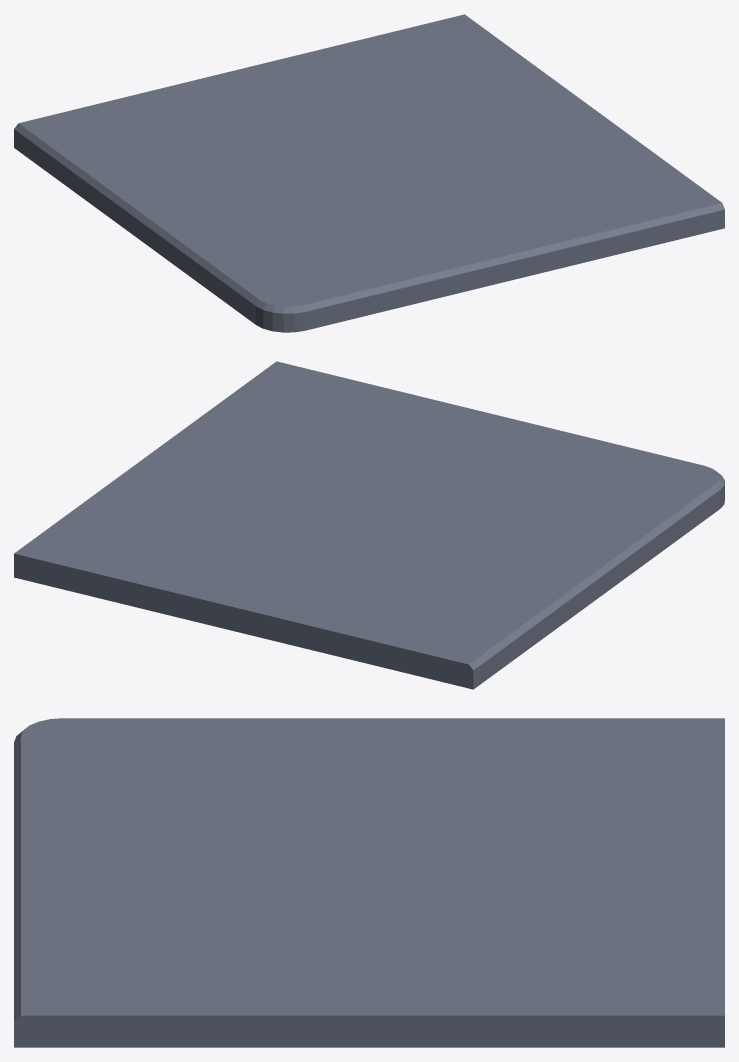
File: env_block_sidewalk_corner_flat_3m.glb
The picture shows the model from 3 angles, top to bottom: view 1: azimuth 30°, elevation 25°; view 2: azimuth 150°, elevation 25°; view 3: azimuth 270°, elevation 25°; orthographic projection. The views are drawn at different scales.
Parts seen in each view (by area): view 1: geometry_0; view 2: geometry_0; view 3: geometry_0.
Part boxes in pixels (bbox=[...]): geometry_0: bbox=[14, 14, 724, 332]; geometry_0: bbox=[14, 361, 724, 689]; geometry_0: bbox=[14, 718, 724, 1047].
Size of the model in its own units: 3.01 by 0.15 by 3.01.
